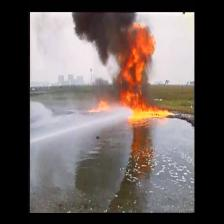fire: (122, 55, 148, 115)
smoke: (85, 14, 127, 46)
